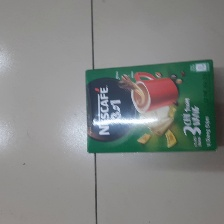Nes Rang: (82, 59, 218, 155)
